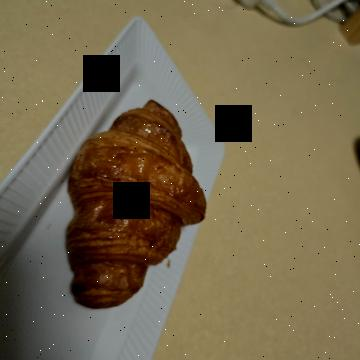croissant: (87, 127, 325, 288)
